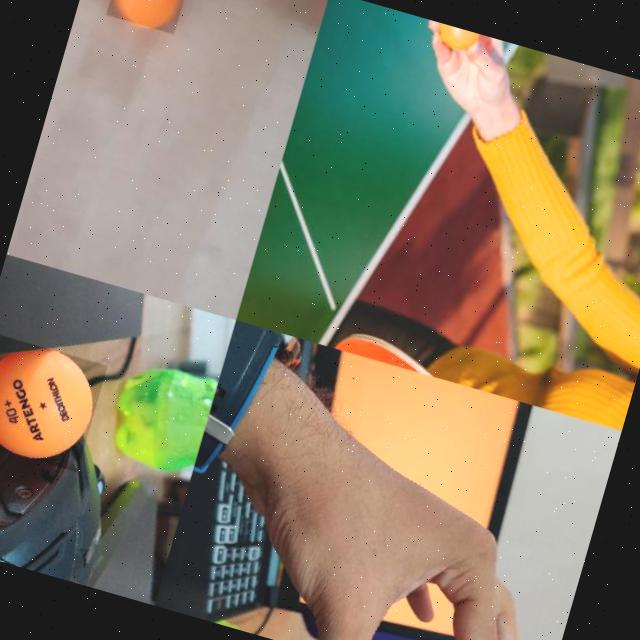ping-pong-ball: (0, 333, 107, 472), (104, 0, 193, 34), (434, 22, 478, 52)
